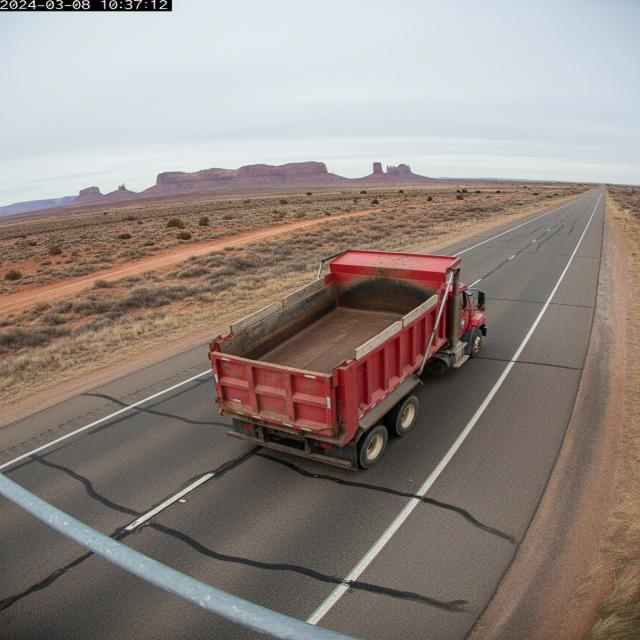trailer: (205, 252, 449, 383)
truck: (182, 240, 516, 465)
